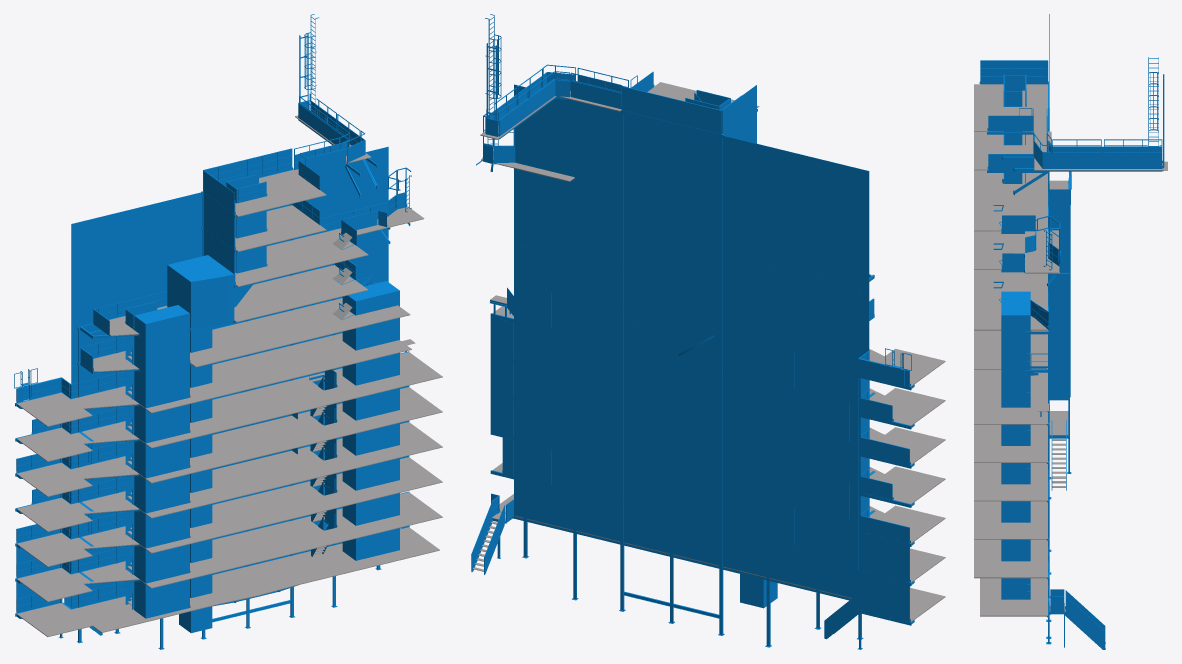
The model's file is HO side A.fbx.
The picture shows the model from 3 angles, left to right: view 1: azimuth 30°, elevation 25°; view 2: azimuth 150°, elevation 25°; view 3: azimuth 270°, elevation 25°; orthographic projection. The views are drawn at different scales.
Visible parts, largest first — view 1: !HO Side A, HO Side A Handrail, HO Side A Handrail.040, HO Side A Handrail.041, HO Side A Floor 1, HO Side A Floor 7.001, HO Side A Floor 3.001, HO Side A Floor 6.001, HO Side A Floor 4.001, HO Side A Floor 5.001, HO Side A Handrail.022, HO Side A Lift.002 (+34 smaller); view 2: HO Side A Handrail, !HO Side A, HO Side A Handrail.035, HO Side A Handrail.043, HO Side A Handrail.042, HO Side A Handrail.022, HO Side A Floor 6, HO Side A Floor 4, HO Side A Floor 5, HO Side A Floor 7, HO Side A Handrail.032, HO Side A Floor 3 (+4 smaller); view 3: !HO Side A, HO Side A Handrail.041, HO Side A Handrail.005, HO Side A Handrail.031, HO Side A Floor 1, HO Side A Floor 6.005, HO Side A Handrail.022, HO Side A Floor 5.005, HO Side A Floor 2.005, HO Side A Floor 4.005, HO Side A Floor 3.005, HO Side A Floor 8 (+15 smaller).
Part boxes in pixels (x1,y1,x2,y2): !HO Side A: [14, 14, 411, 649]; HO Side A Handrail: [71, 146, 388, 606]; HO Side A Handrail.040: [134, 305, 189, 618]; HO Side A Handrail.041: [342, 281, 399, 560]; HO Side A Floor 1: [71, 527, 439, 632]; HO Side A Floor 7.001: [136, 351, 352, 413]; HO Side A Floor 3.001: [134, 494, 339, 553]; HO Side A Floor 6.001: [134, 389, 339, 448]; HO Side A Floor 4.001: [134, 459, 339, 518]; HO Side A Floor 5.001: [136, 424, 339, 483]; HO Side A Handrail.022: [203, 171, 234, 284]; HO Side A Lift.002: [184, 326, 212, 631]; HO Side A Handrail: [514, 84, 869, 597]; !HO Side A: [471, 14, 915, 649]; HO Side A Handrail.035: [860, 516, 909, 621]; HO Side A Handrail.043: [490, 317, 513, 436]; HO Side A Handrail.042: [622, 86, 721, 134]; HO Side A Handrail.022: [722, 85, 756, 143]; HO Side A Floor 6: [882, 388, 945, 425]; HO Side A Floor 4: [882, 466, 945, 504]; HO Side A Floor 5: [877, 427, 945, 464]; HO Side A Floor 7: [877, 348, 945, 386]; HO Side A Handrail.032: [499, 80, 555, 139]; HO Side A Floor 3: [882, 505, 945, 543]; !HO Side A: [977, 57, 1164, 649]; HO Side A Handrail.041: [1001, 291, 1030, 599]; HO Side A Handrail.005: [1049, 189, 1070, 397]; HO Side A Handrail.031: [1042, 153, 1162, 171]; HO Side A Floor 1: [980, 578, 1047, 616]; HO Side A Floor 6.005: [974, 375, 1034, 424]; HO Side A Handrail.022: [980, 60, 1047, 144]; HO Side A Floor 5.005: [974, 424, 1034, 462]; HO Side A Floor 2.005: [974, 539, 1034, 578]; HO Side A Floor 4.005: [974, 463, 1034, 501]; HO Side A Floor 3.005: [974, 501, 1034, 539]; HO Side A Floor 8: [974, 269, 1001, 330].
Size of what is drawn, in the model's own units: 2906 by 3912 by 1144.
